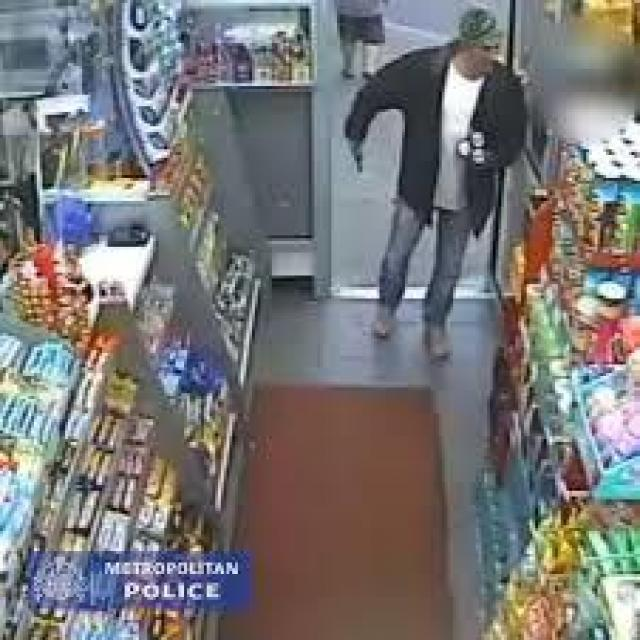weapon: (336, 138, 379, 181)
